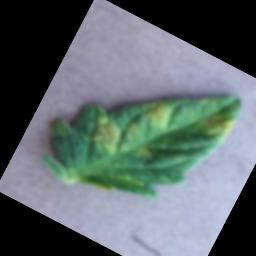Leaf_Mold: (86, 110, 128, 152), (197, 104, 237, 145), (141, 96, 177, 132)
